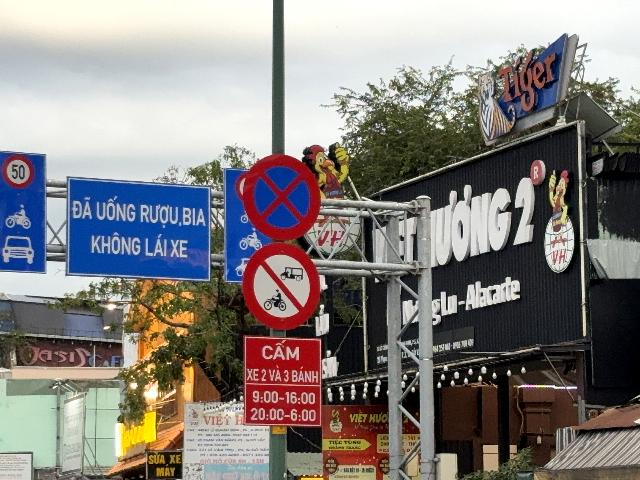cam-dung-va-do-xe: (242, 153, 320, 241)
cam-xe-2-banh-3-banh: (242, 241, 321, 329)
toc-do-toi-da-cho-phep: (2, 154, 36, 189)
